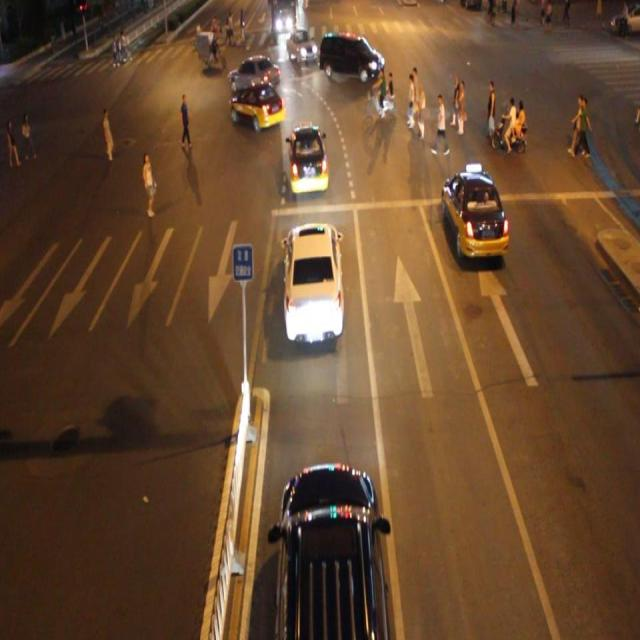car: (274, 461, 389, 640), (282, 220, 345, 345), (442, 167, 508, 263), (317, 30, 383, 85), (287, 124, 328, 195), (230, 83, 284, 133), (228, 54, 280, 95), (285, 28, 318, 66)
